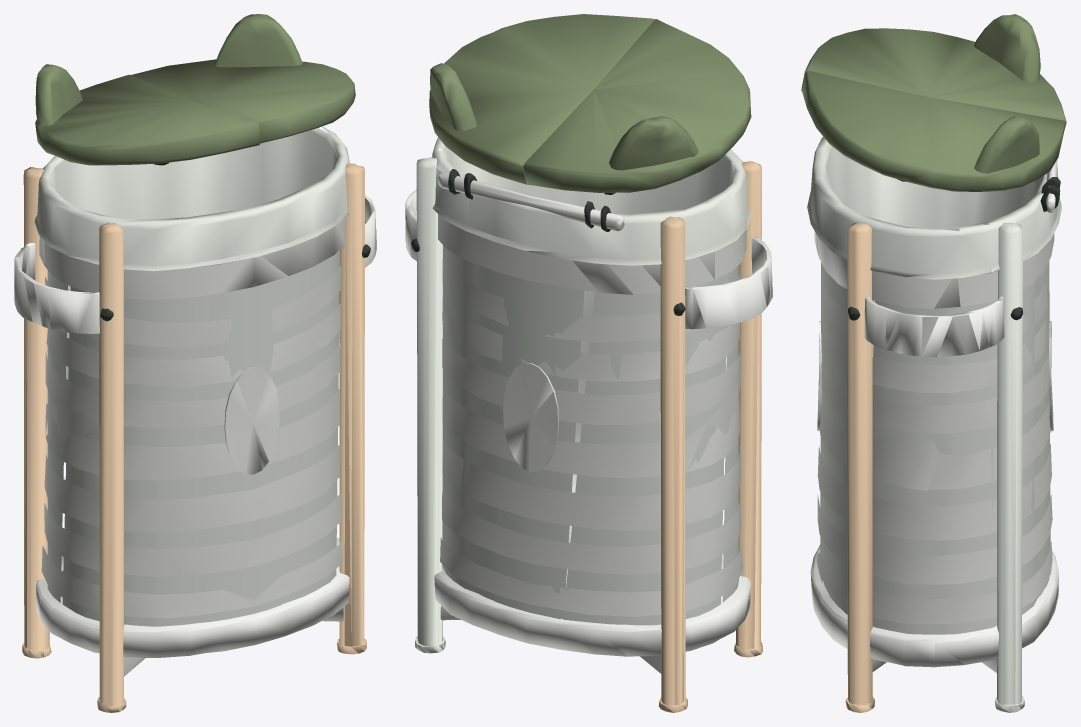
File: bath_hamper.glb
3 views of the same model, side by side, from view 1: azimuth 30°, elevation 25°; view 2: azimuth 150°, elevation 25°; view 3: azimuth 270°, elevation 25° (orthographic).
Size of the model in its own units: 0.88 by 1.42 by 0.591.
